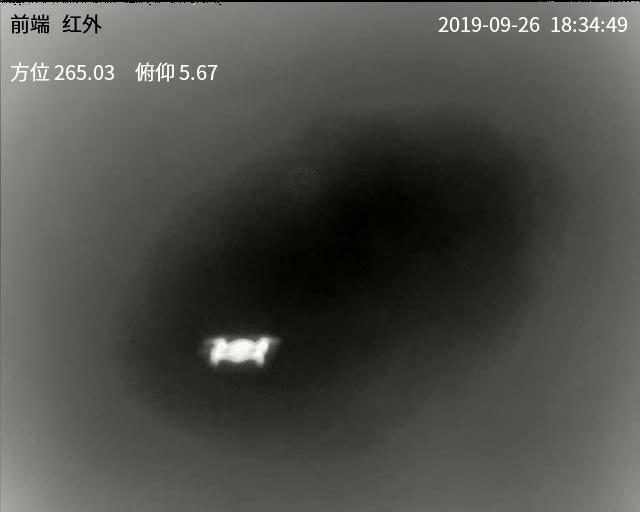DRONE: (210, 336, 272, 367)
